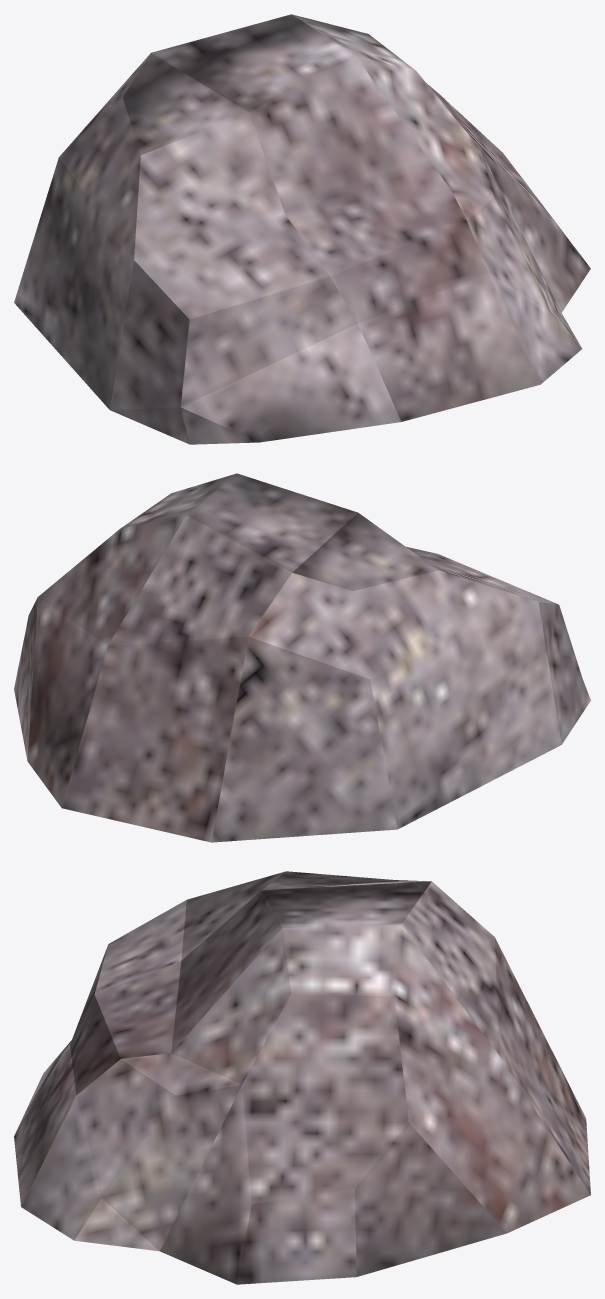
Rendered from MS_Rock_4.fbx.
The picture shows the model from 3 angles, top to bottom: view 1: azimuth 30°, elevation 25°; view 2: azimuth 150°, elevation 25°; view 3: azimuth 270°, elevation 25°; orthographic projection. The views are drawn at different scales.
Parts seen in each view (by area): view 1: MSH_Rock_03; view 2: MSH_Rock_03; view 3: MSH_Rock_03.
Part boxes in pixels (x1,y1,x2,y2): MSH_Rock_03: [14, 14, 590, 444]; MSH_Rock_03: [14, 473, 590, 842]; MSH_Rock_03: [14, 871, 590, 1284].
Bounding box in the file's own units: 114 × 53.51 × 111.
